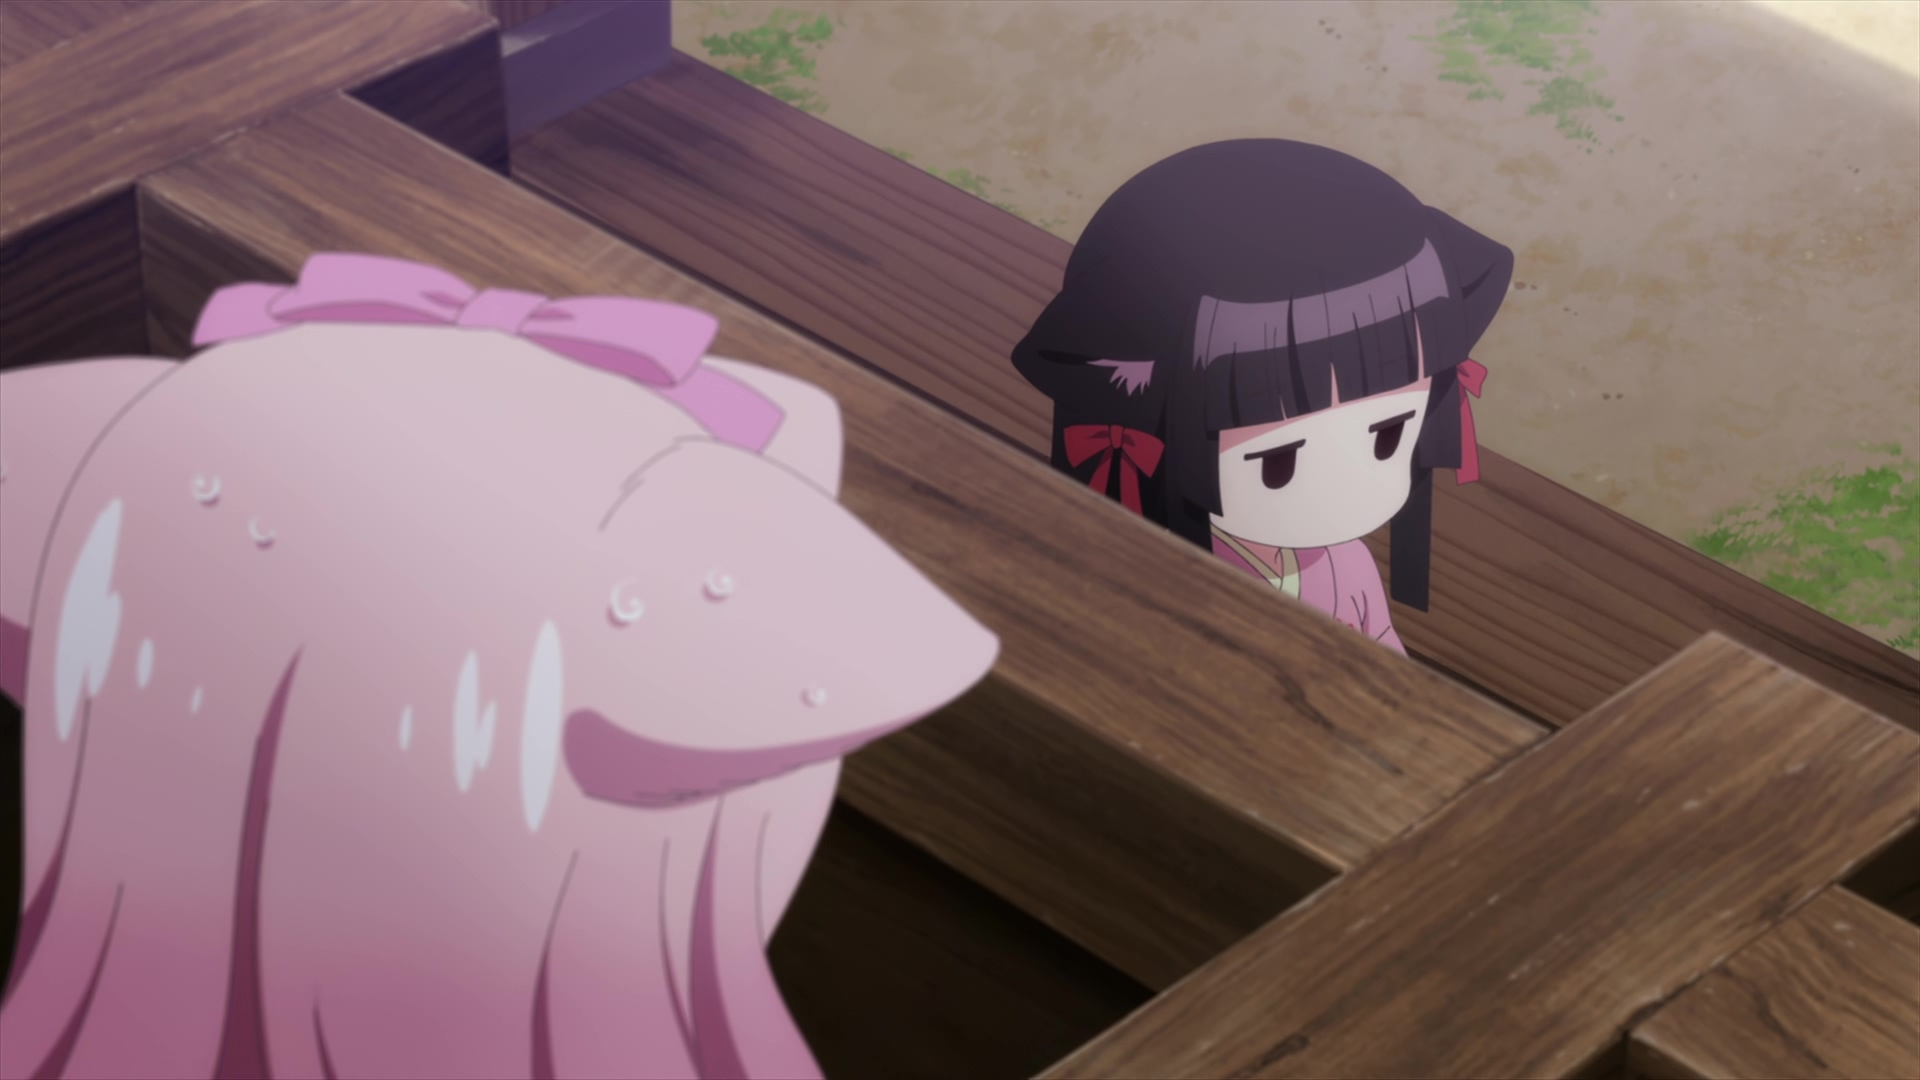樱: (1011, 138, 1513, 665)
莲: (1, 252, 1004, 1080)
